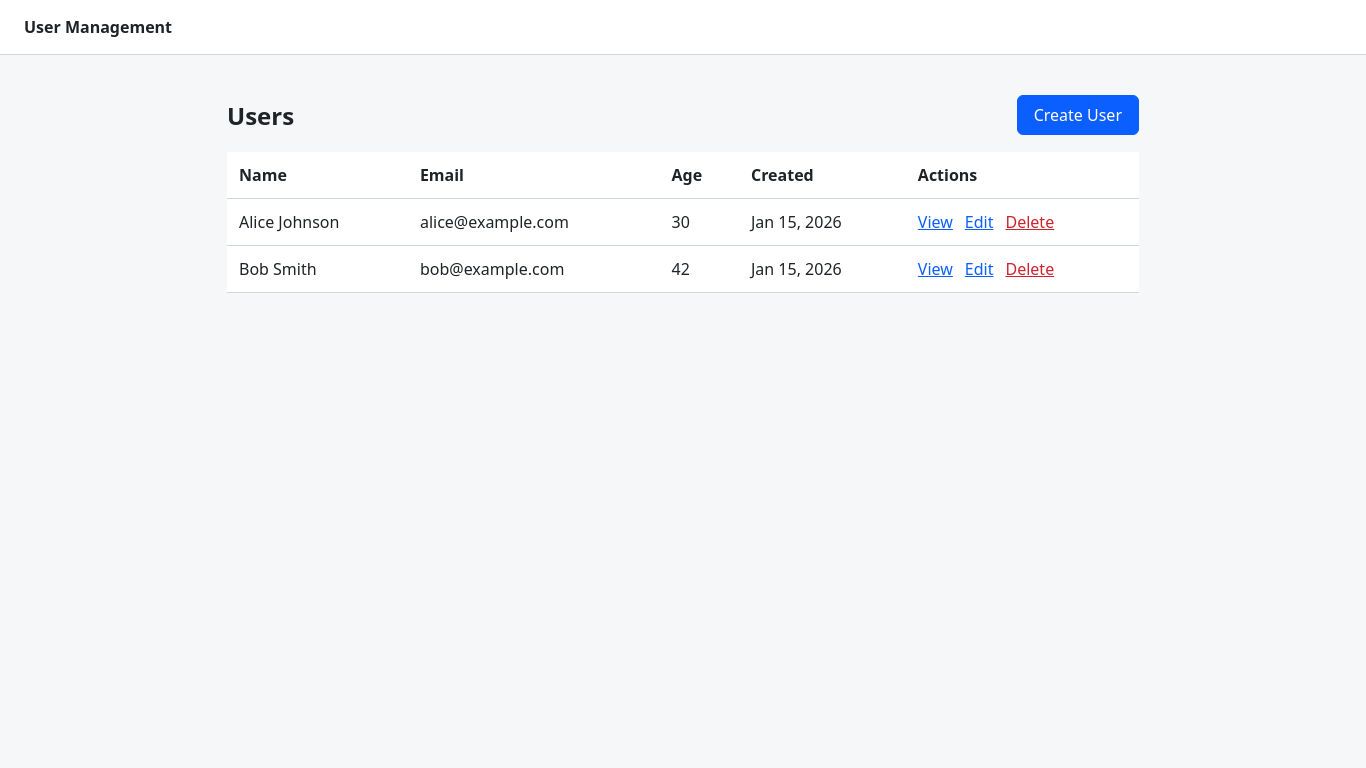
it: Users list page › deleting a user › asks for confirmation first, and does nothing when cancelled
What coordinates should you click on to do the following:
click the button with aria-label "Delete Alice Johnson"
I would click on:
 (1030, 222)
Its box is [1006,211,1054,233].
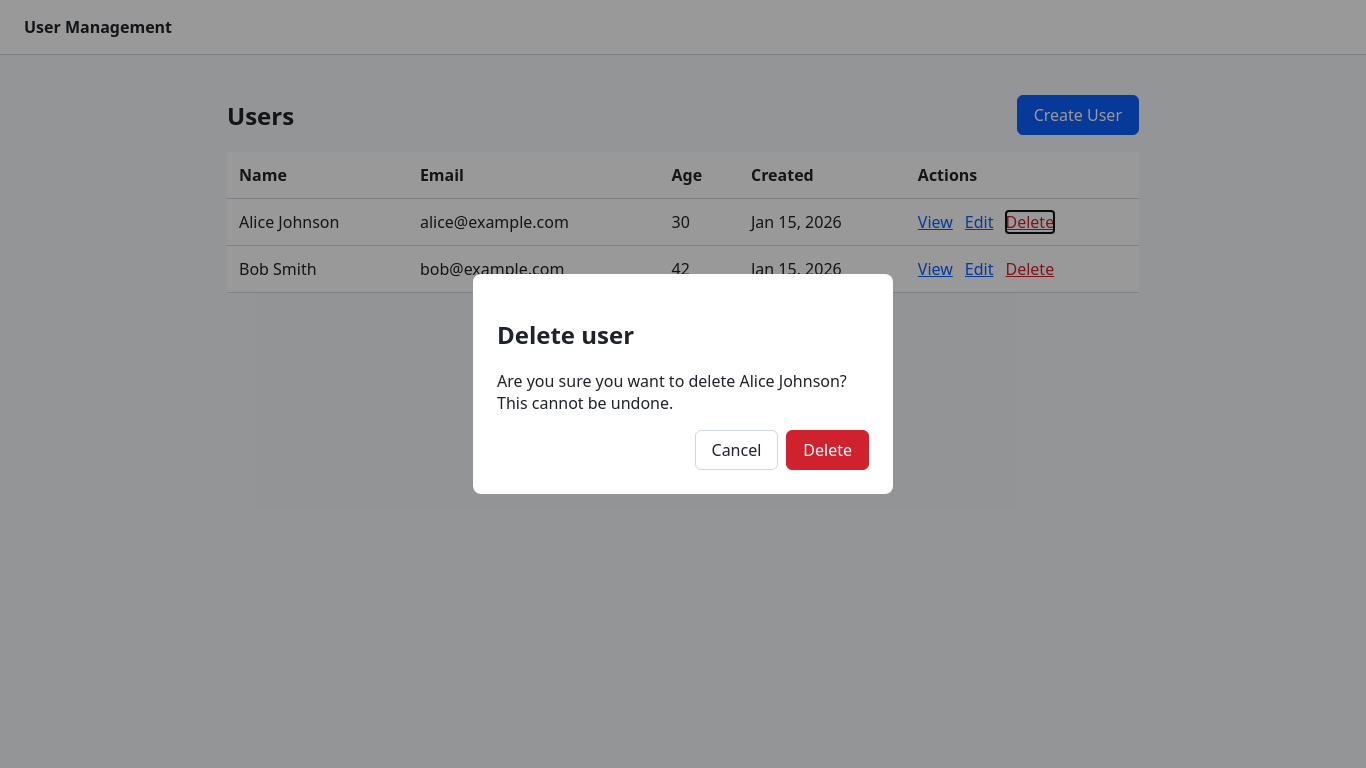
Result: the dialog "Delete user" shows "Are you sure you want to delete Alice Johnson?" at [497,370,847,414]
What coordinates should you click on to do the following:
click the button "Cancel"
I would click on:
 (736, 450)
Its box is [694,430,778,470].
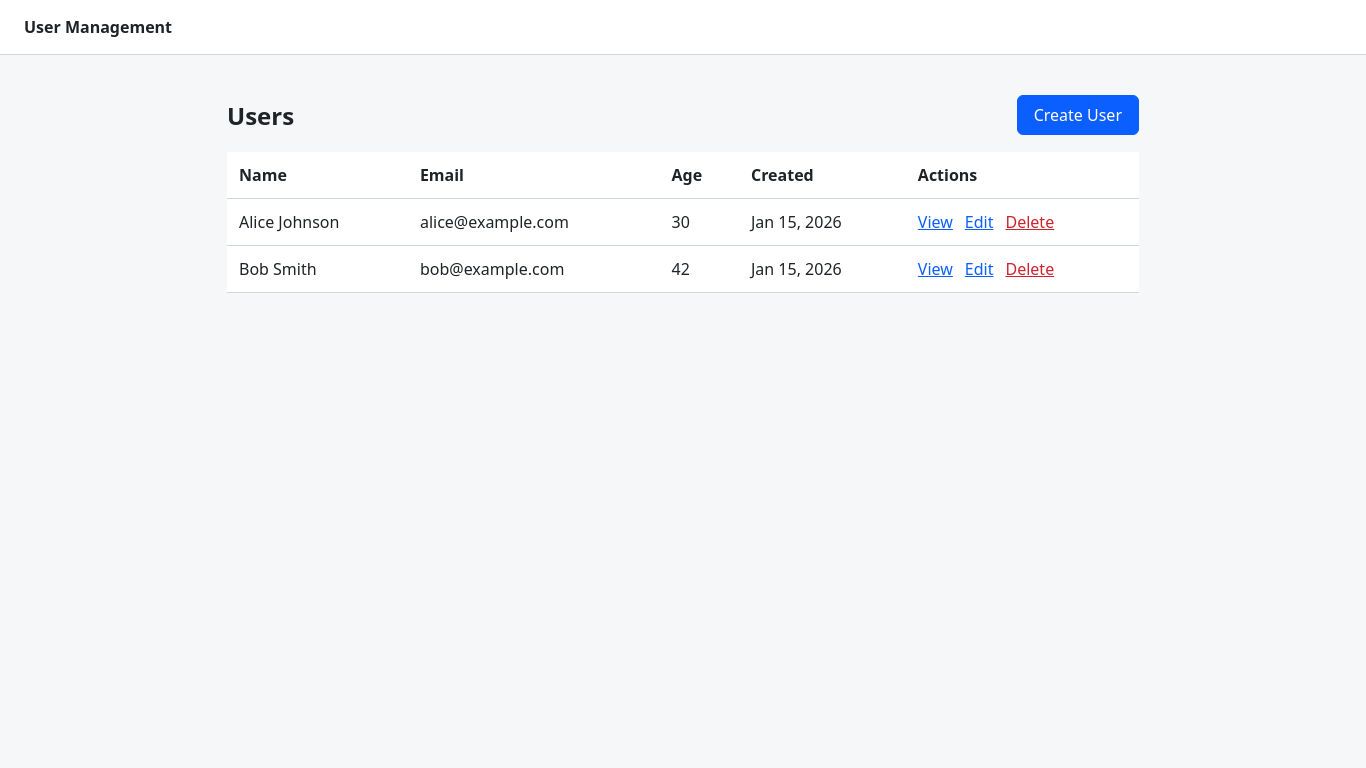
Expected: the cell "Alice Johnson" is shown, [227,198,408,246]
Result: the dialog is gone
